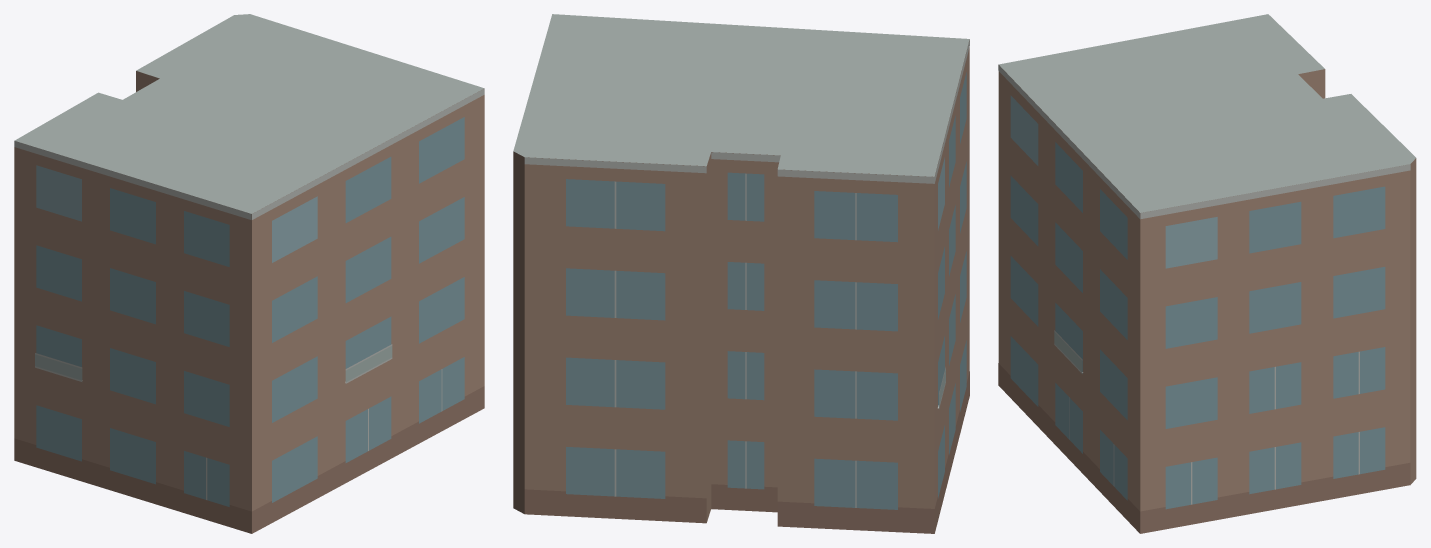
File: survey-upis-32681632.glb
3 renders of one model, left to right at view 1: azimuth 30°, elevation 25°; view 2: azimuth 150°, elevation 25°; view 3: azimuth 270°, elevation 25°, orthographic. The views are drawn at different scales.
Visible parts, largest first — view 1: survey-upis-32681632.tmp; view 2: survey-upis-32681632.tmp; view 3: survey-upis-32681632.tmp.
Part boxes in pixels (x1,y1,x2,y2): survey-upis-32681632.tmp: (14,14,484,533); survey-upis-32681632.tmp: (513,14,969,533); survey-upis-32681632.tmp: (998,14,1416,533).
Size of the model in its own units: 16.48 by 12.39 by 14.63.
